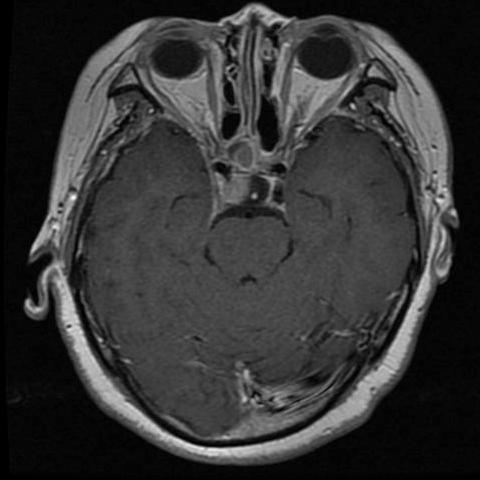Tumour-Pituitary: (204, 158, 295, 219)
